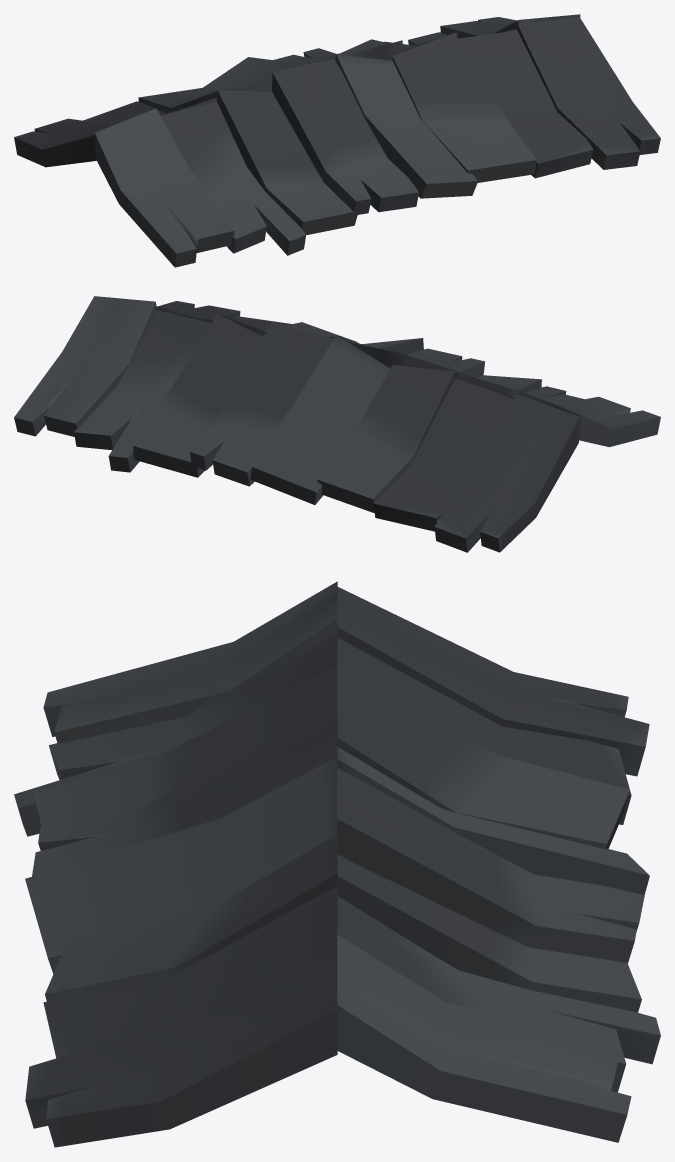
Rendered from SM_Bld_Roof_Trim_Top_01.fbx.
3 views of the same model, one above another, from view 1: azimuth 30°, elevation 25°; view 2: azimuth 150°, elevation 25°; view 3: azimuth 270°, elevation 25° (orthographic). The views are drawn at different scales.
Visible parts, largest first — view 1: SM_Bld_Roof_Trim_Top_01; view 2: SM_Bld_Roof_Trim_Top_01; view 3: SM_Bld_Roof_Trim_Top_01.
Part boxes in pixels (bbox=[...]): SM_Bld_Roof_Trim_Top_01: bbox=[14, 14, 660, 267]; SM_Bld_Roof_Trim_Top_01: bbox=[14, 296, 660, 552]; SM_Bld_Roof_Trim_Top_01: bbox=[14, 581, 660, 1147].
Bounding box in the file's own units: 255 × 51.45 × 162.
1 material, 1 textured.
